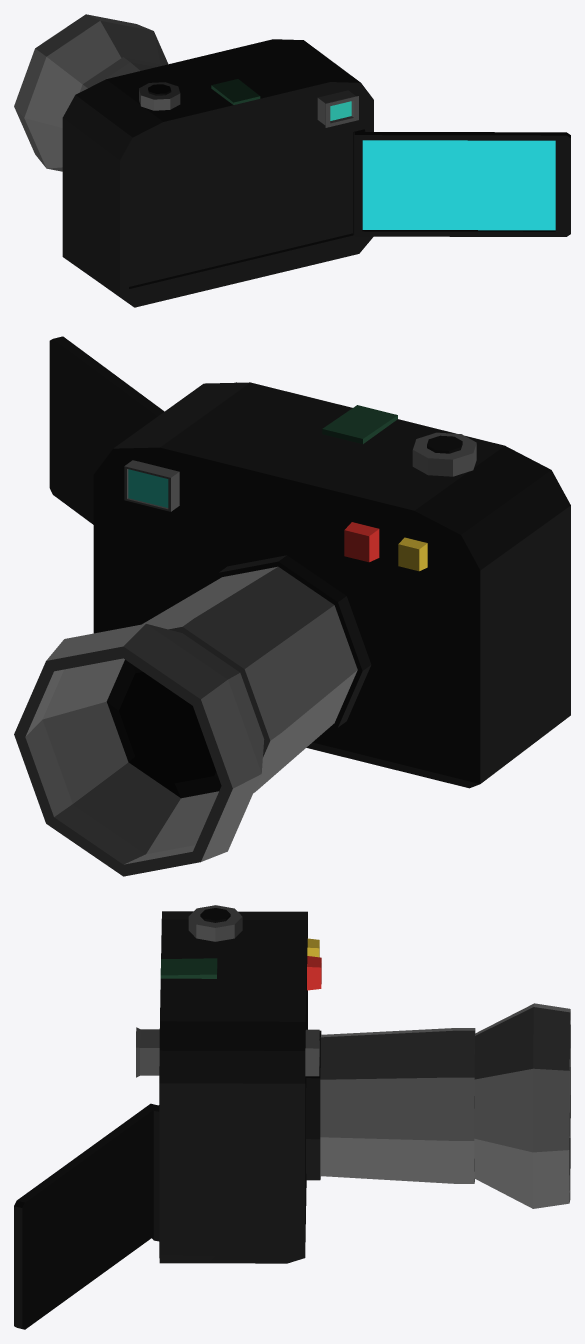
Rendered from Camera.fbx.
The picture shows the model from 3 angles, top to bottom: view 1: azimuth 30°, elevation 25°; view 2: azimuth 150°, elevation 25°; view 3: azimuth 270°, elevation 25°; orthographic projection. The views are drawn at different scales.
Visible parts, largest first — view 1: Node 0, Node 1; view 2: Node 0, Node 1; view 3: Node 0, Node 1.
Part boxes in pixels (bbox=[...]): Node 0: bbox=[14, 14, 373, 307]; Node 1: bbox=[354, 132, 570, 236]; Node 0: bbox=[14, 382, 570, 876]; Node 1: bbox=[49, 336, 164, 524]; Node 0: bbox=[136, 905, 570, 1263]; Node 1: bbox=[14, 1103, 158, 1329].
Bounding box in the file's own units: 0.2101 × 0.1039 × 0.2158.
